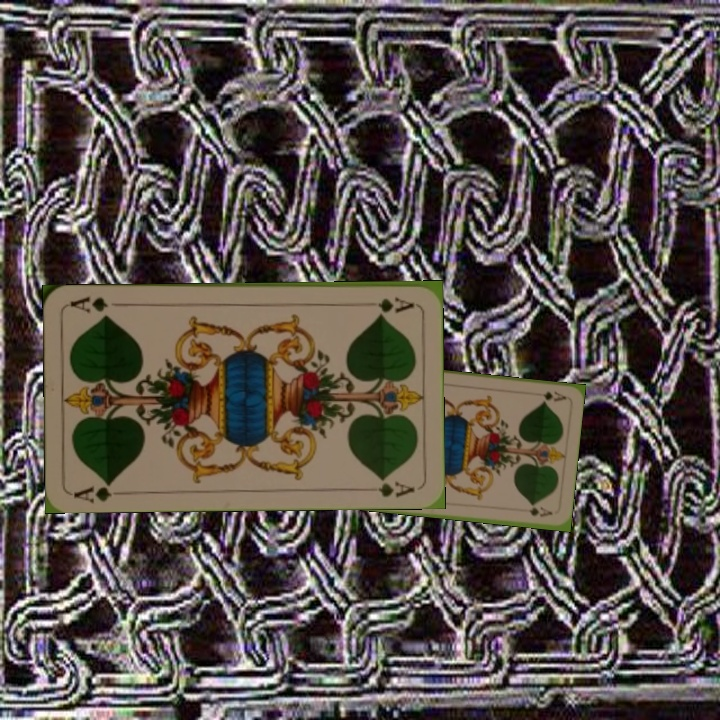GA: (357, 293, 417, 315), (70, 477, 116, 504), (528, 387, 568, 404)
